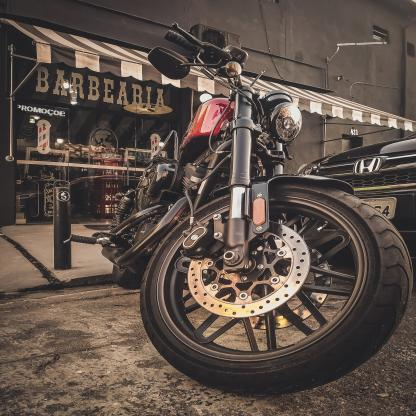bike: (119, 23, 412, 397)
